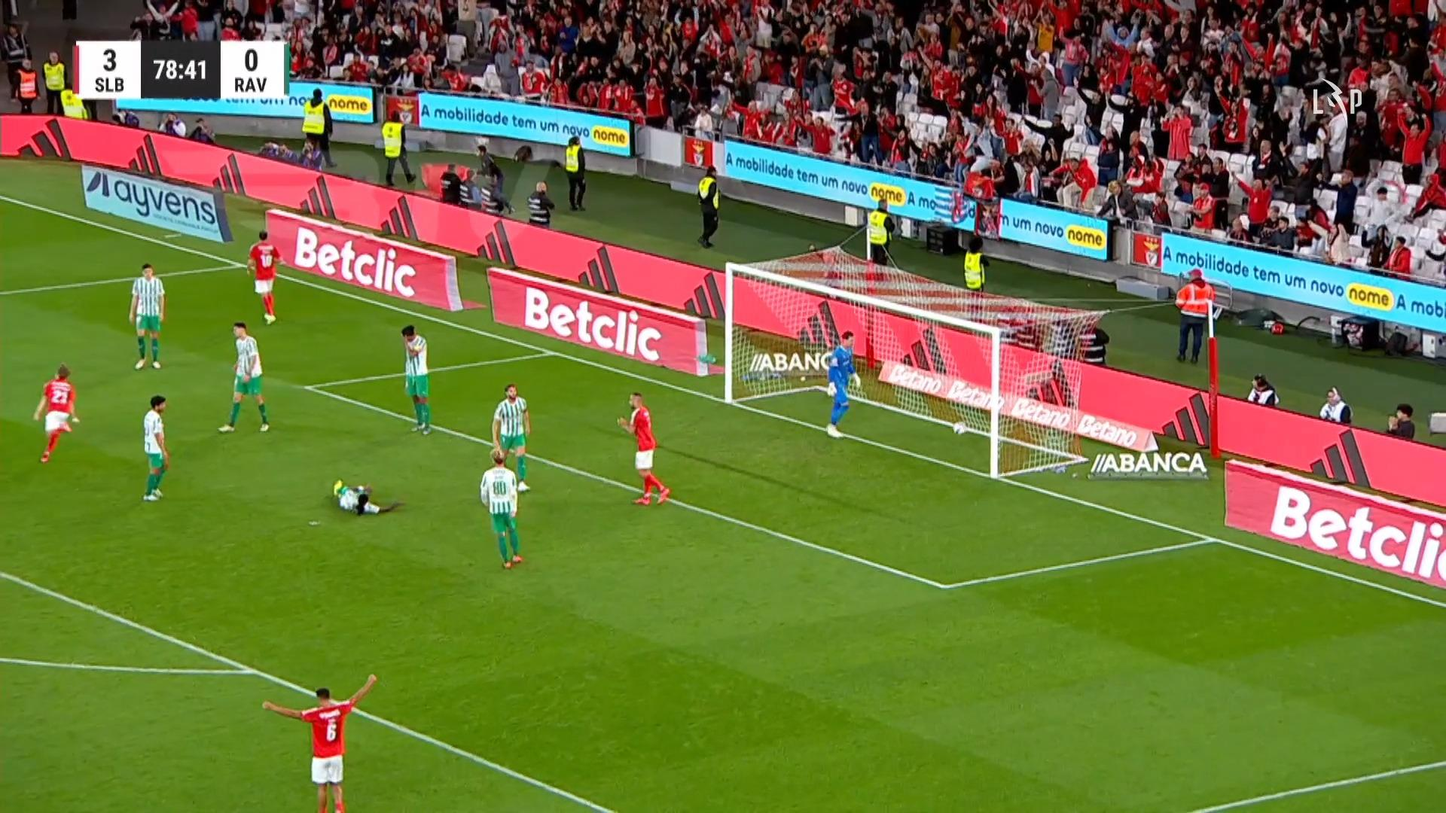ball: (953, 421, 967, 435)
goalkeeper: (824, 330, 861, 438)
player: (261, 672, 378, 811), (615, 391, 670, 505), (218, 321, 270, 433), (478, 448, 524, 569), (32, 362, 79, 463), (490, 382, 532, 492), (127, 262, 166, 370), (400, 324, 432, 435), (246, 230, 282, 324), (141, 394, 170, 501), (332, 478, 402, 516)
